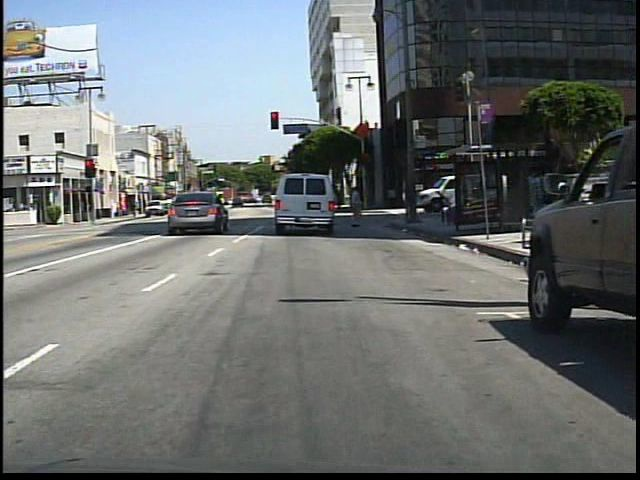person: (347, 183, 371, 232), (180, 192, 195, 218)
